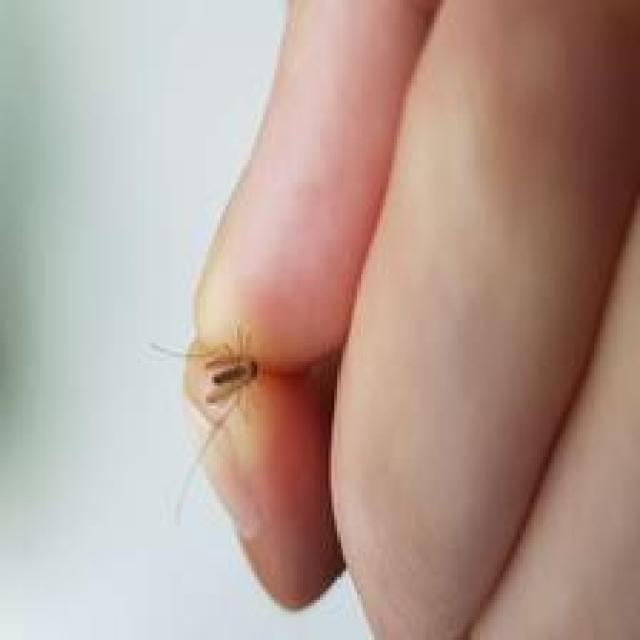Culex: (149, 323, 260, 520)
